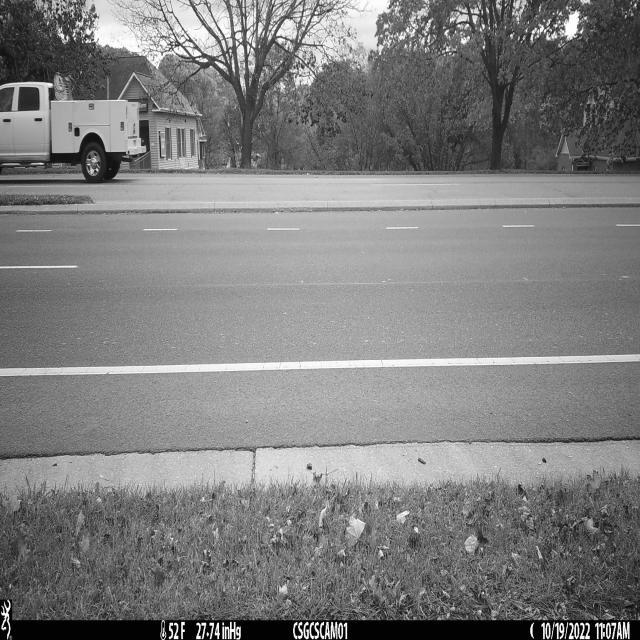Pickup- Utility: (0, 74, 149, 183)
